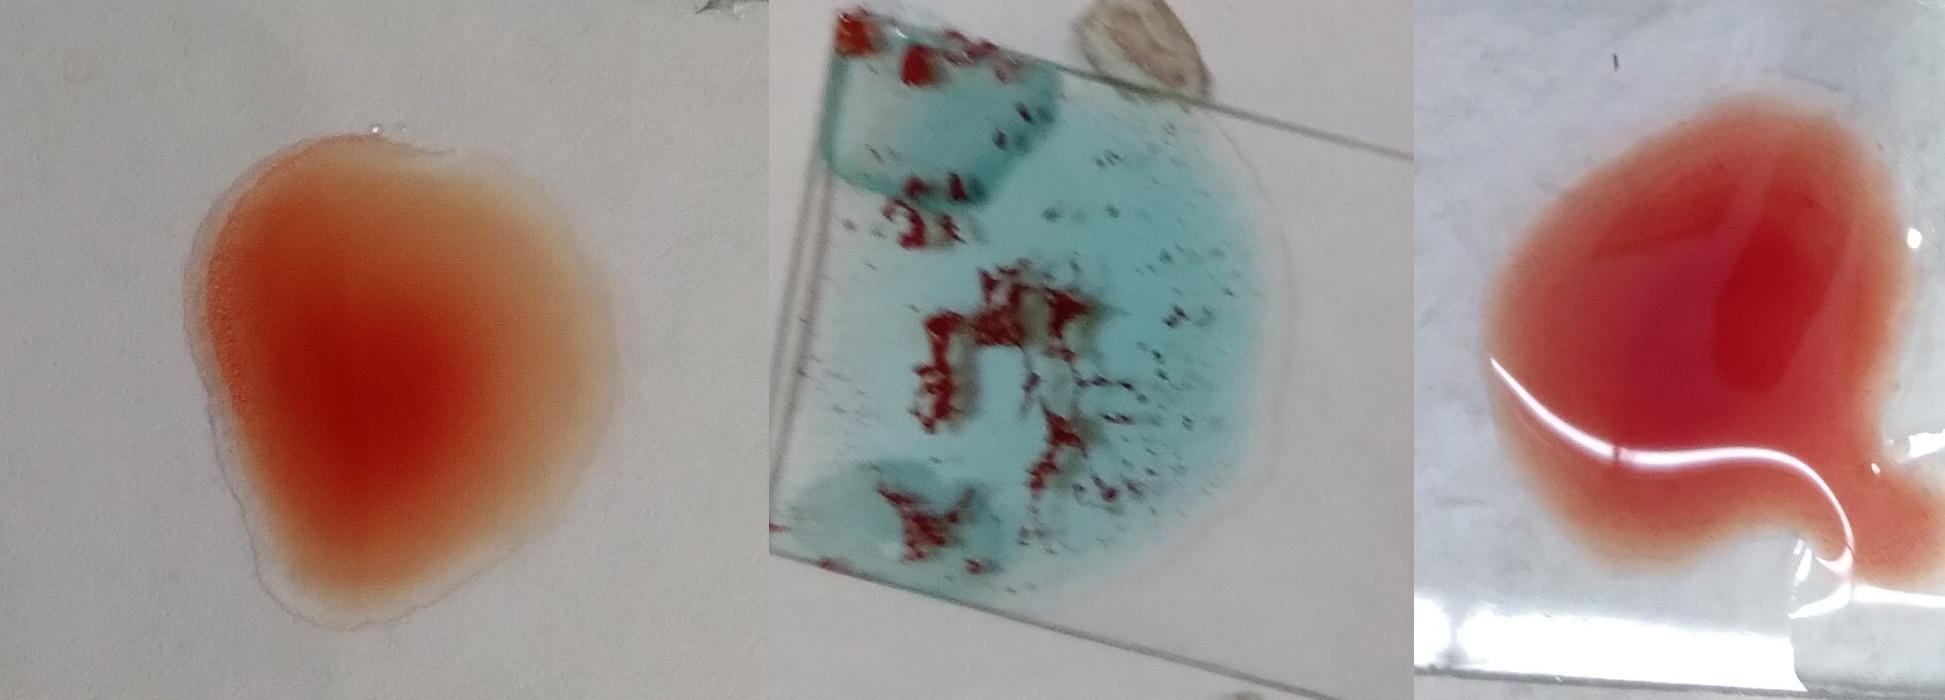A: (851, 82, 1206, 577)
